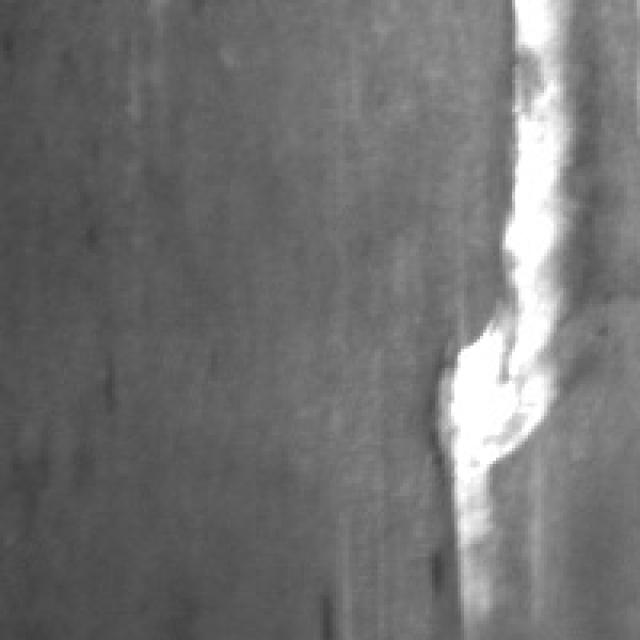inclusion: (16, 435, 96, 541)
scratches: (439, 0, 592, 630)
